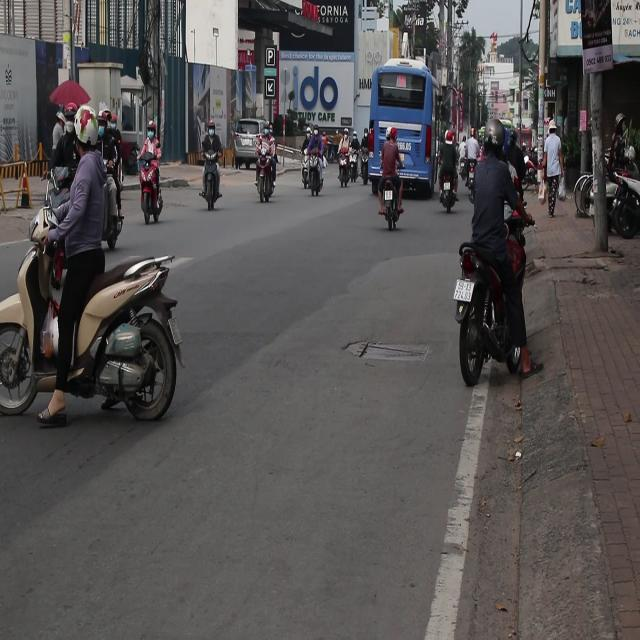bus: (367, 60, 438, 194)
car: (232, 118, 274, 168)
motorbike: (0, 247, 178, 428), (458, 240, 562, 402), (385, 182, 414, 244), (143, 169, 167, 233), (249, 172, 279, 223), (196, 160, 220, 213), (314, 156, 335, 212), (447, 177, 464, 218), (332, 144, 347, 185), (454, 140, 472, 168), (302, 151, 315, 189), (348, 148, 362, 182), (470, 160, 482, 196)
